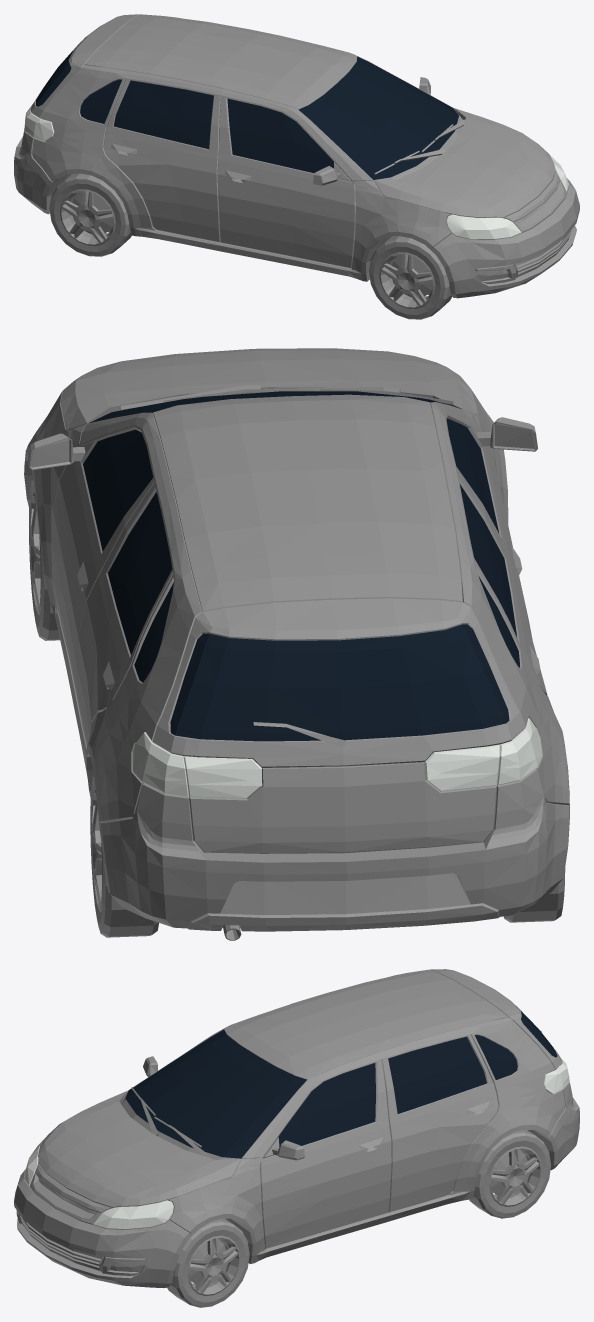
The model's file is hatchback.obj.
3 views of the same model, one above another, from view 1: azimuth 30°, elevation 25°; view 2: azimuth 150°, elevation 25°; view 3: azimuth 270°, elevation 25° (orthographic). The views are drawn at different scales.
Visible parts, largest first — view 1: hatchback-body, wheel_b003; view 2: hatchback-body, wheel_b003; view 3: hatchback-body, wheel_b003.
Part boxes in pixels (x1=…): hatchback-body: x1=14, y1=14, x2=579, y2=298; wheel_b003: x1=49, y1=173, x2=452, y2=319; hatchback-body: x1=24, y1=348, x2=569, y2=940; wheel_b003: x1=29, y1=473, x2=565, y2=937; hatchback-body: x1=14, y1=969, x2=579, y2=1287; wheel_b003: x1=167, y1=1130, x2=550, y2=1307.
Size of the model in its own units: 3.45 by 1.5 by 4.1.
